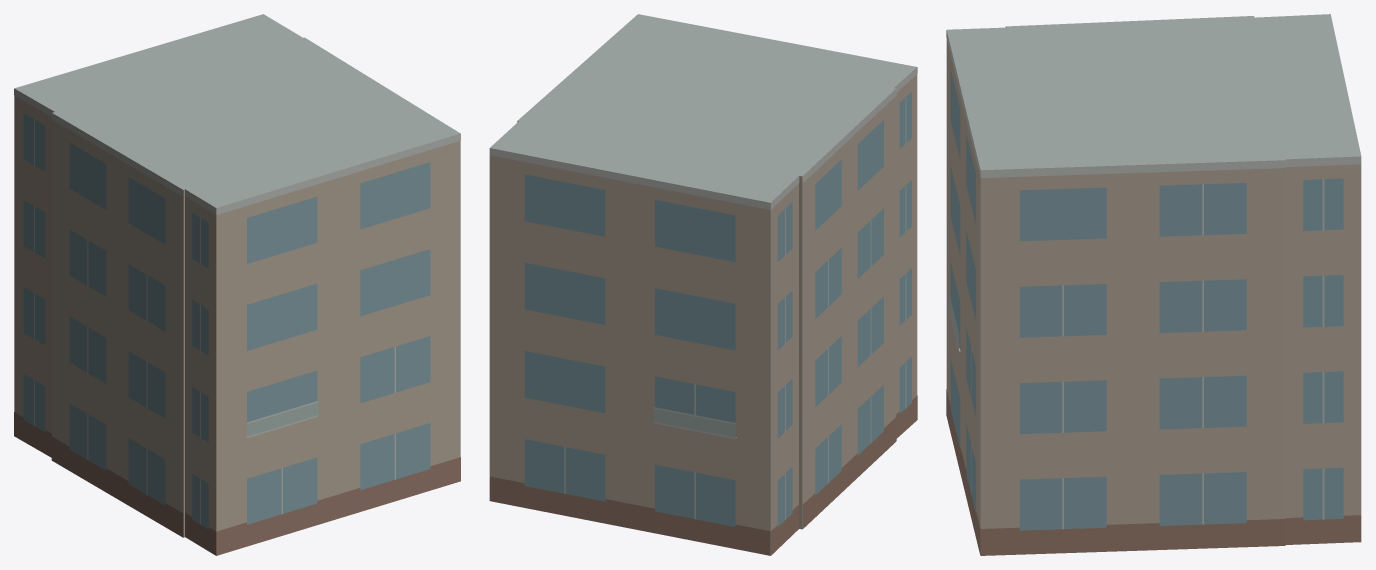
The model's file is survey-upis-32822470.glb.
The picture shows the model from 3 angles, left to right: view 1: azimuth 30°, elevation 25°; view 2: azimuth 150°, elevation 25°; view 3: azimuth 270°, elevation 25°; orthographic projection. The views are drawn at different scales.
Parts seen in each view (by area): view 1: survey-upis-32822470.tmp; view 2: survey-upis-32822470.tmp; view 3: survey-upis-32822470.tmp.
Part boxes in pixels (x1=…): survey-upis-32822470.tmp: x1=14, y1=14, x2=460, y2=555; survey-upis-32822470.tmp: x1=489, y1=14, x2=917, y2=555; survey-upis-32822470.tmp: x1=946, y1=14, x2=1361, y2=555.
Bounding box in the file's own units: 10.41 × 11.97 × 11.68.
